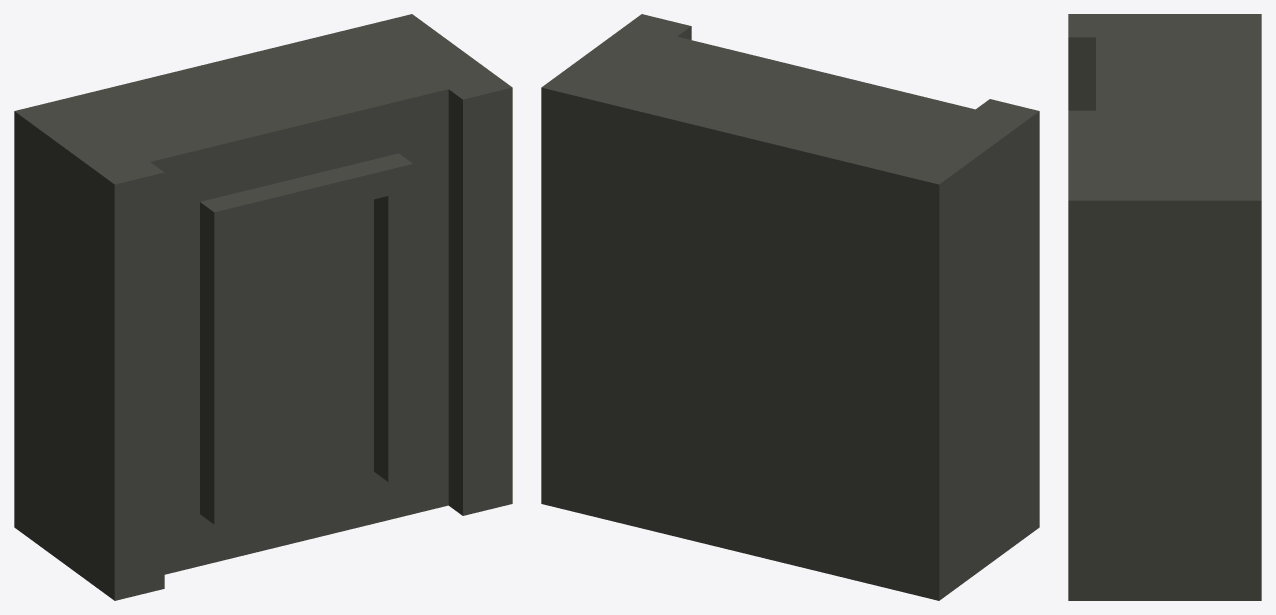
File: Wall.obj
The picture shows the model from 3 angles, left to right: view 1: azimuth 30°, elevation 25°; view 2: azimuth 150°, elevation 25°; view 3: azimuth 270°, elevation 25°; orthographic projection. The views are drawn at different scales.
Size of the model in its own units: 1.6 by 1.6 by 0.7.
1 material, 1 textured.
